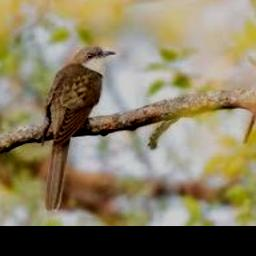Cuckoo: (43, 46, 117, 215)
